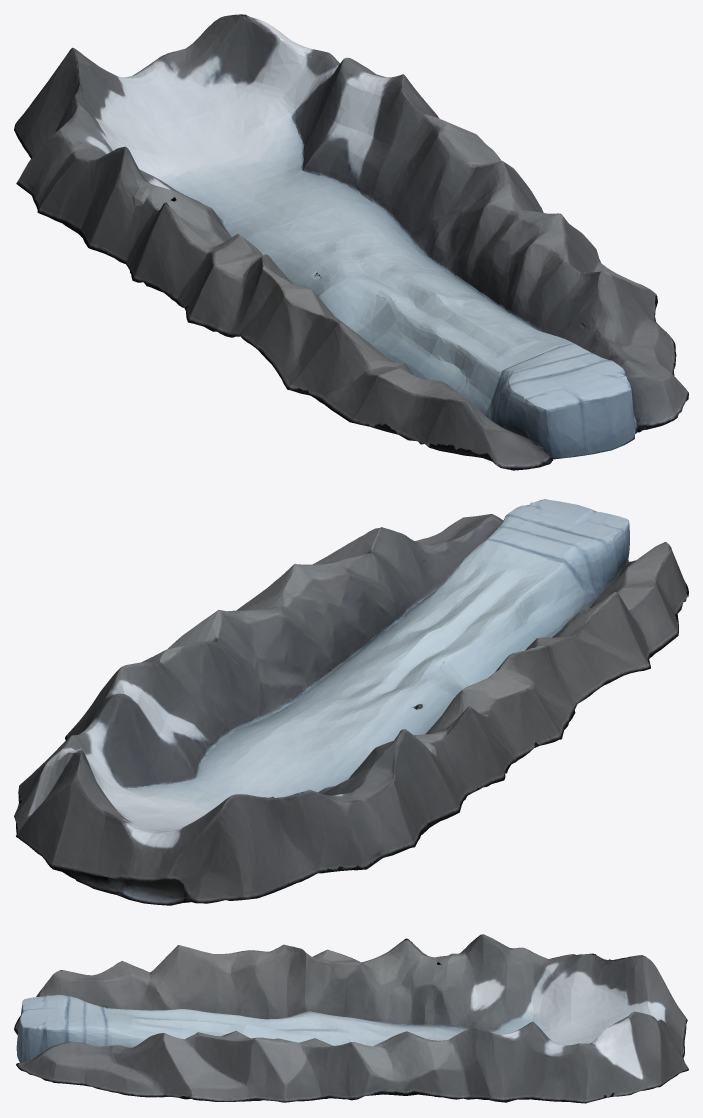
The picture shows the model from 3 angles, top to bottom: view 1: azimuth 30°, elevation 25°; view 2: azimuth 150°, elevation 25°; view 3: azimuth 270°, elevation 25°; orthographic projection. The views are drawn at different scales.
Visible parts, largest first — view 1: world; view 2: world; view 3: world.
Boxes of the visible parts, x1,y1,x2,y2 form: world: (14,14,688,470); world: (14,499,688,905); world: (14,934,688,1103).
Bounding box in the file's own units: 0.4576 × 0.1357 × 0.9951.
Materials: 1 (1 with a texture image).
